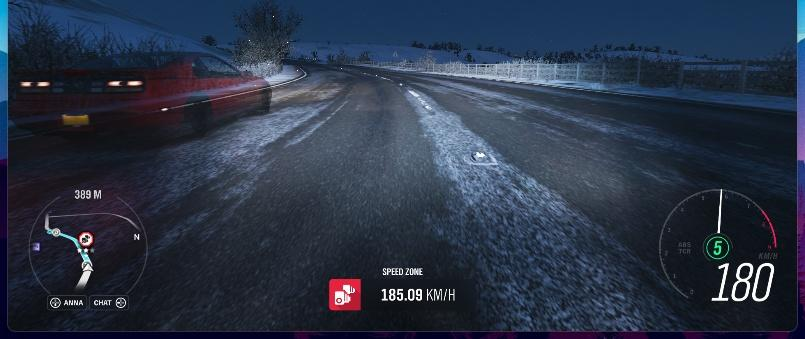Tree: (229, 0, 302, 77)
